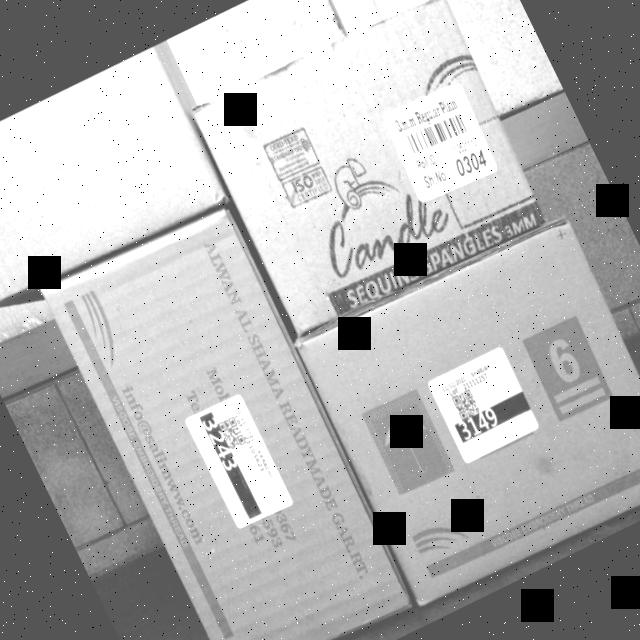box: (41, 212, 409, 640), (297, 217, 640, 604), (194, 0, 547, 339), (0, 46, 223, 314)
